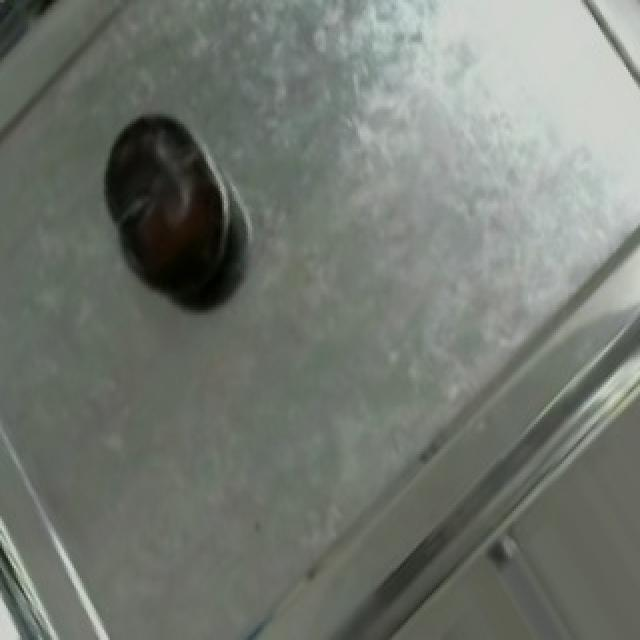Fruit: (86, 92, 248, 315)
